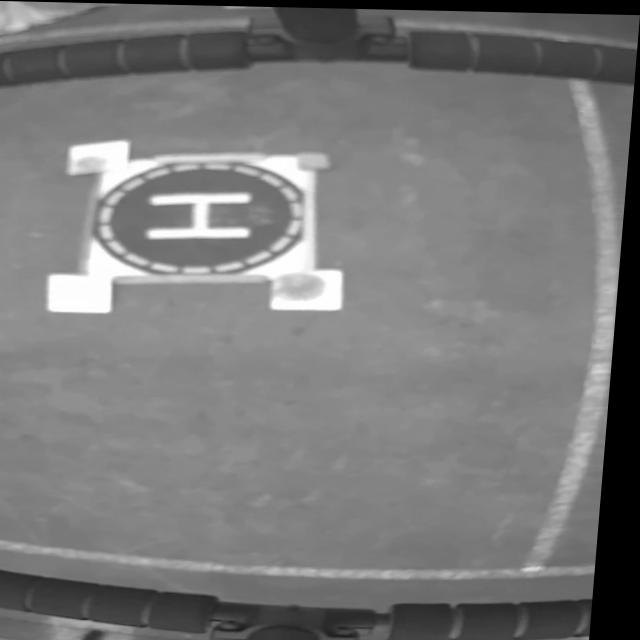Helipad: (149, 191, 256, 237)
